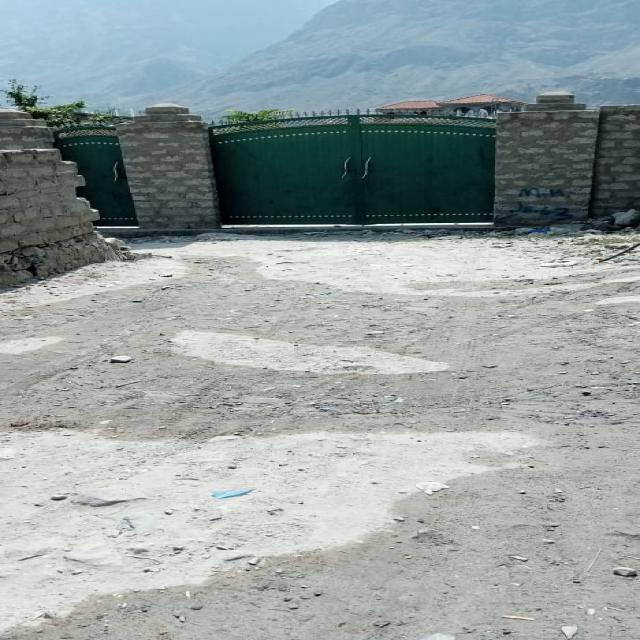Left-Turn: (123, 229, 350, 293)
